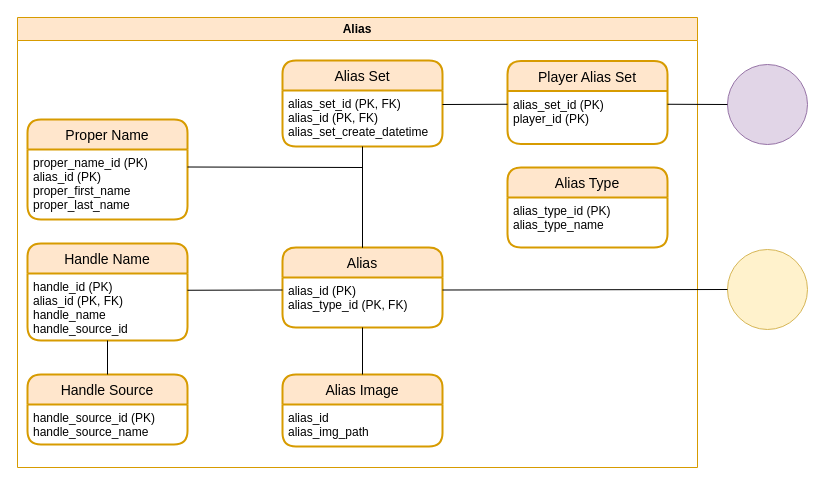
Some shapes in this 825 by 485 pixel diagram are drawn without their labels. Each missing label, with the centre of its shape:
Current Rating: the point at 767,289
Player: the point at 767,104
